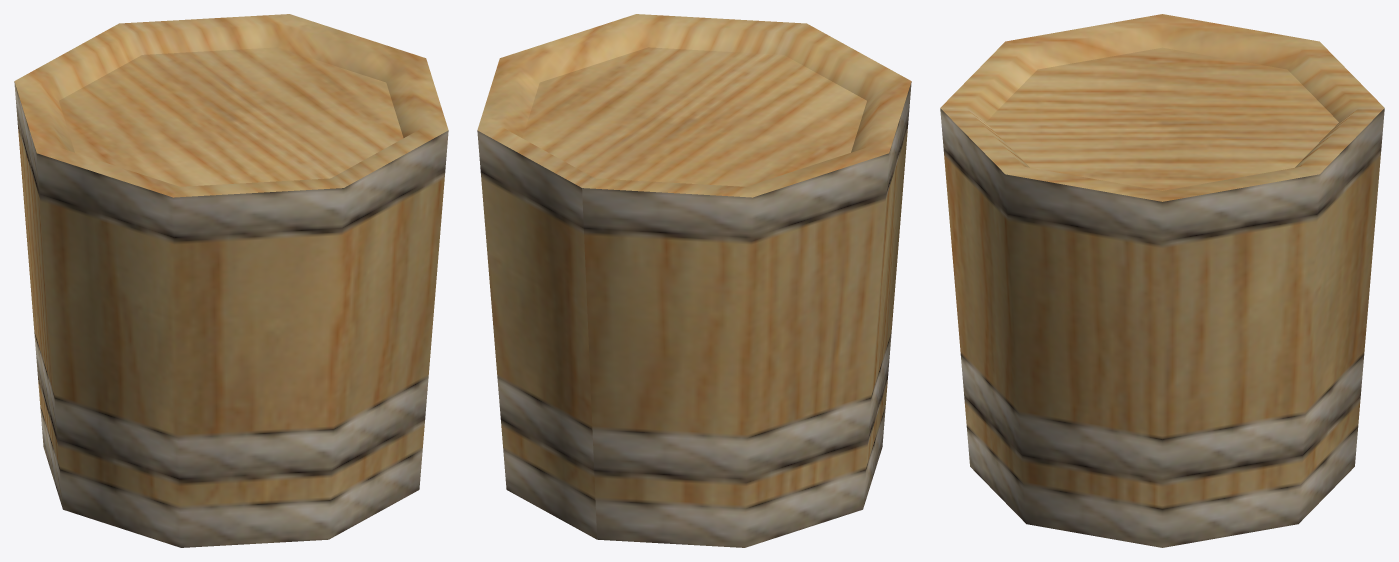
File: taru.fbx
3 renders of one model, left to right at view 1: azimuth 30°, elevation 25°; view 2: azimuth 150°, elevation 25°; view 3: azimuth 270°, elevation 25°, orthographic.
Parts seen in each view (by area): view 1: pCylinder1; view 2: pCylinder1; view 3: pCylinder1.
Boxes of the visible parts, <box> form: pCylinder1: <box>14,14,448,547</box>; pCylinder1: <box>477,14,911,547</box>; pCylinder1: <box>940,14,1384,547</box>.
Bounding box in the file's own units: 2 × 1.78 × 2.
